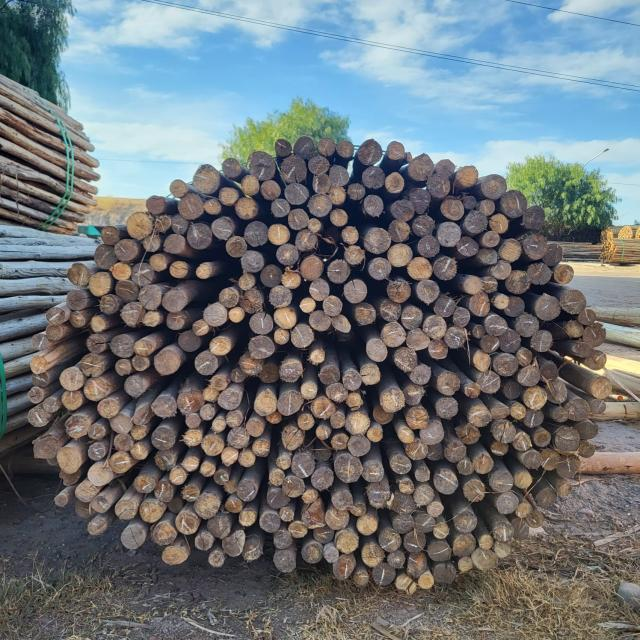package: (27, 139, 610, 595)
